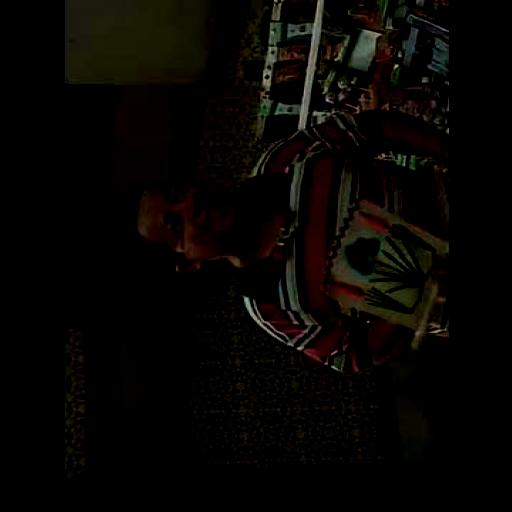fouchika: (111, 181, 245, 272)
